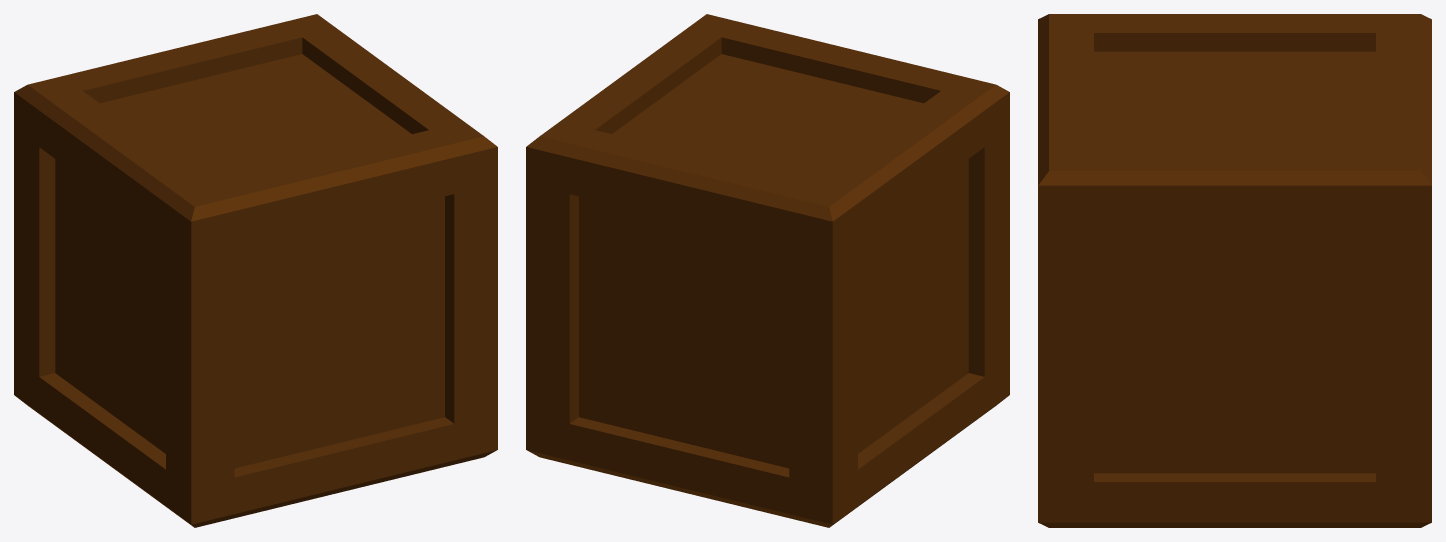
3 renders of one model, left to right at view 1: azimuth 30°, elevation 25°; view 2: azimuth 150°, elevation 25°; view 3: azimuth 270°, elevation 25°, orthographic. The views are drawn at different scales.
Visible parts, largest first — view 1: crate; view 2: crate; view 3: crate.
Boxes of the visible parts, x1,y1,x2,y2 form: crate: [14, 14, 497, 527]; crate: [526, 14, 1009, 527]; crate: [1038, 14, 1431, 527].
Size of the model in its own units: 0.5 by 0.5 by 0.5.
